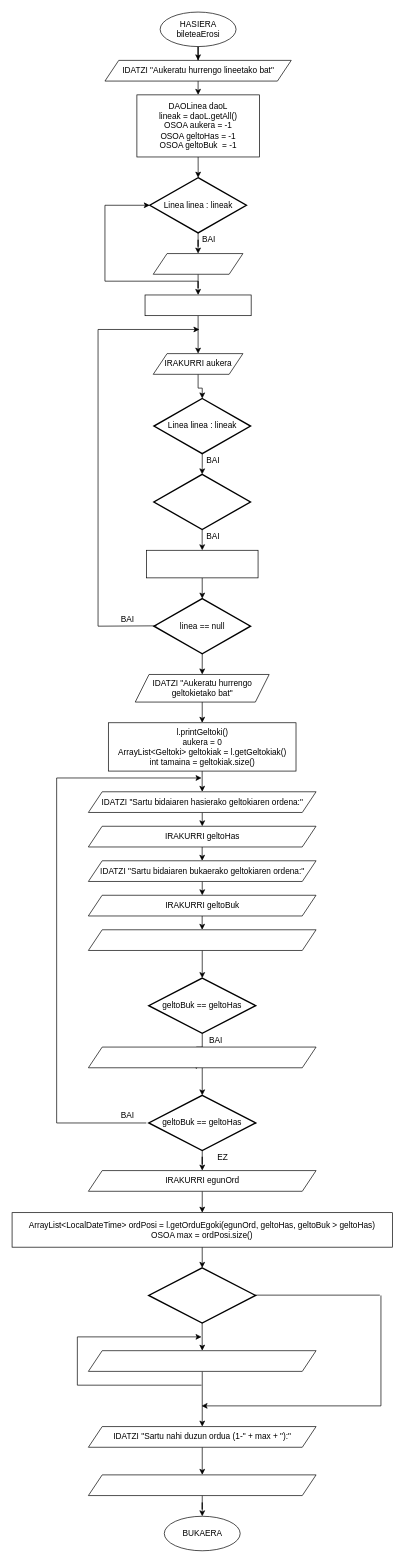
This 405x1563 diagram has some shape labels left out. Here are the shapes that lost their labels. From the top down, the centre of each, then its label:
[198,263]: IDATZI linea
[197,305]: Linea l = null
[202,501]: lin.kodeaDa(aukera)
[202,564]: l = lin break;
[202,939]: IDATZI "Aukera prozesatzen..."
[202,1057]: IDATZI "Ez duzu bileterik behar lekuan bertan geratzeko"
[202,1295]: int i = 0; i < max
[202,1360]: IDATZI "-" + (i+1) + "-" + ordPosi.get(i)
[202,1485]: IRAKURRI max
